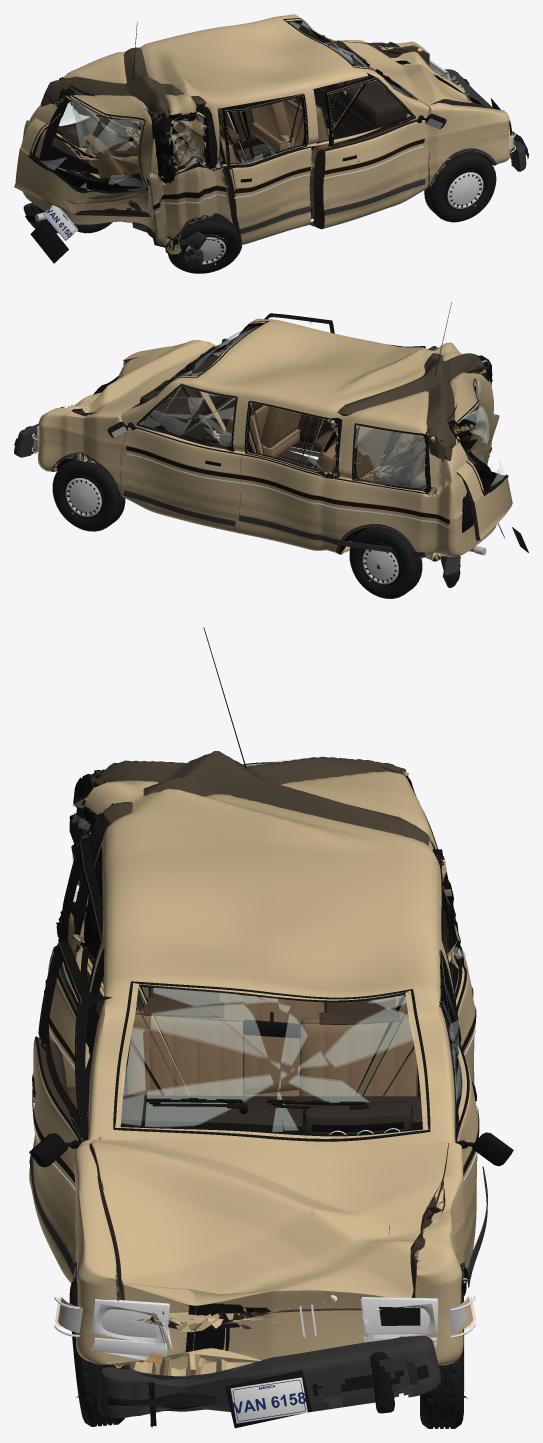
Rendered from minivan86_rear_corner_R_d2.glb.
The picture shows the model from 3 angles, top to bottom: view 1: azimuth 30°, elevation 25°; view 2: azimuth 150°, elevation 25°; view 3: azimuth 270°, elevation 25°; orthographic projection. The views are drawn at different scales.
Visible parts, largest first — view 1: Body, Interior, Door_FR, Liftgate, Door_SR, Wheel_FR_mesh, Hood, Glass_Liftgate, Glass, Wheel_RR_mesh, Trim_FR, Ends (+7 smaller); view 2: Body, Door_FL, Interior, Trim, Glass, Liftgate, Hood, Wheel_FL_mesh, Wheel_RL_mesh, Trim_FL, Glass_FL, Glass_Liftgate (+5 smaller); view 3: Body, Hood, Interior, Glass, Bumper_F, Ends, Door_FR, Door_SR, Trim_FR, Door_FL, Trim, Trim_FL (+4 smaller).
Boxes of the visible parts, <box> form: Body: <box>22,14,509,256</box>; Interior: <box>83,41,409,178</box>; Door_FR: <box>313,73,429,229</box>; Liftgate: <box>14,77,162,217</box>; Door_SR: <box>222,93,311,244</box>; Wheel_FR_mesh: <box>424,151,496,222</box>; Hood: <box>343,42,493,108</box>; Glass_Liftgate: <box>28,88,147,193</box>; Glass: <box>59,18,417,182</box>; Wheel_RR_mesh: <box>168,213,241,273</box>; Trim_FR: <box>308,78,446,226</box>; Ends: <box>30,60,515,263</box>; Body: <box>38,318,499,561</box>; Door_FL: <box>120,383,241,533</box>; Interior: <box>140,354,425,487</box>; Trim: <box>51,302,492,558</box>; Glass: <box>132,321,491,491</box>; Liftgate: <box>425,357,512,540</box>; Hood: <box>66,340,212,413</box>; Wheel_FL_mesh: <box>52,458,125,531</box>; Wheel_RL_mesh: <box>349,526,422,598</box>; Trim_FL: <box>107,384,241,526</box>; Glass_FL: <box>141,384,237,451</box>; Glass_Liftgate: <box>449,378,508,495</box>; Body: <box>68,751,475,1376</box>; Hood: <box>89,1139,448,1329</box>; Interior: <box>121,986,422,1134</box>; Glass: <box>72,774,467,1141</box>; Bumper_F: <box>98,1336,440,1427</box>; Ends: <box>54,1295,475,1428</box>; Door_FR: <box>29,942,112,1282</box>; Door_SR: <box>45,841,103,1088</box>; Trim_FR: <box>29,943,82,1273</box>; Door_FL: <box>439,949,478,1283</box>; Trim: <box>69,627,476,1334</box>; Trim_FL: <box>440,950,513,1287</box>.
Bounding box in the file's own units: 4.58 × 2.34 × 2.04.
34 materials, 5 textured.
